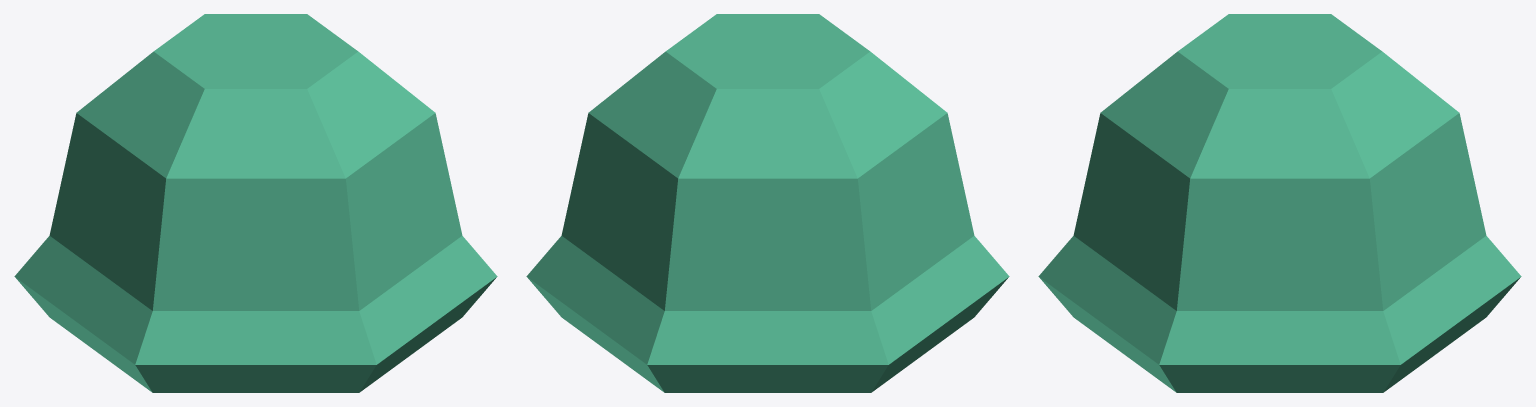
Rendered from iceCreamScoopMint.fbx.
3 renders of one model, left to right at view 1: azimuth 30°, elevation 25°; view 2: azimuth 150°, elevation 25°; view 3: azimuth 270°, elevation 25°, orthographic.
Parts seen in each view (by area): view 1: iceCreamScoopMint; view 2: iceCreamScoopMint; view 3: iceCreamScoopMint.
Part boxes in pixels (left/top/right/bottom): iceCreamScoopMint: left=14, top=14, right=497, bottom=392; iceCreamScoopMint: left=526, top=14, right=1009, bottom=392; iceCreamScoopMint: left=1038, top=14, right=1521, bottom=392.
Size of the model in its own units: 2.35 by 1.65 by 2.72.
